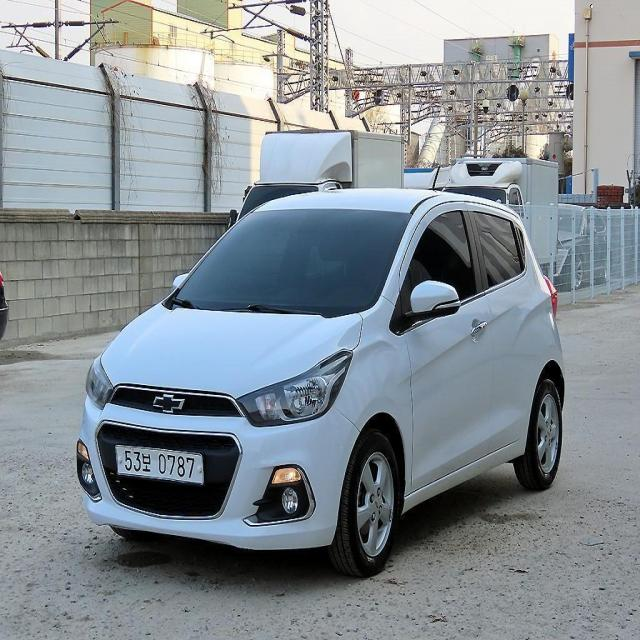car: (74, 165, 573, 577)
illegal_plate: (118, 444, 208, 491)
